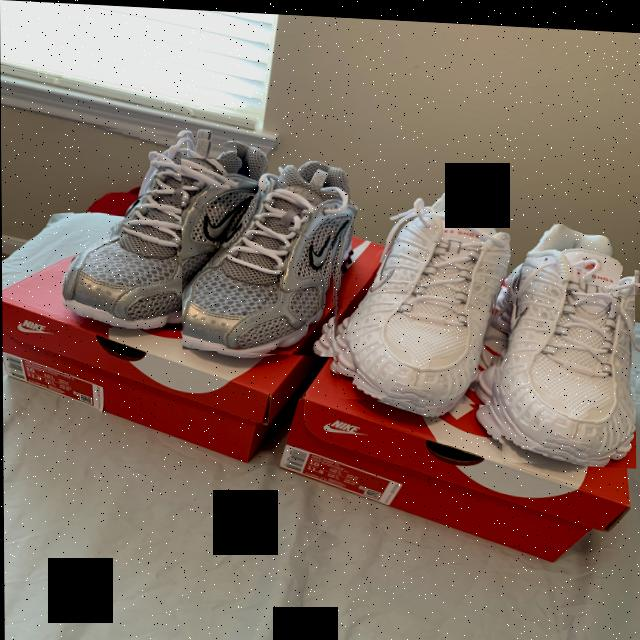shoe: (329, 183, 508, 402), (486, 205, 636, 462), (181, 155, 364, 355), (63, 123, 238, 332)
